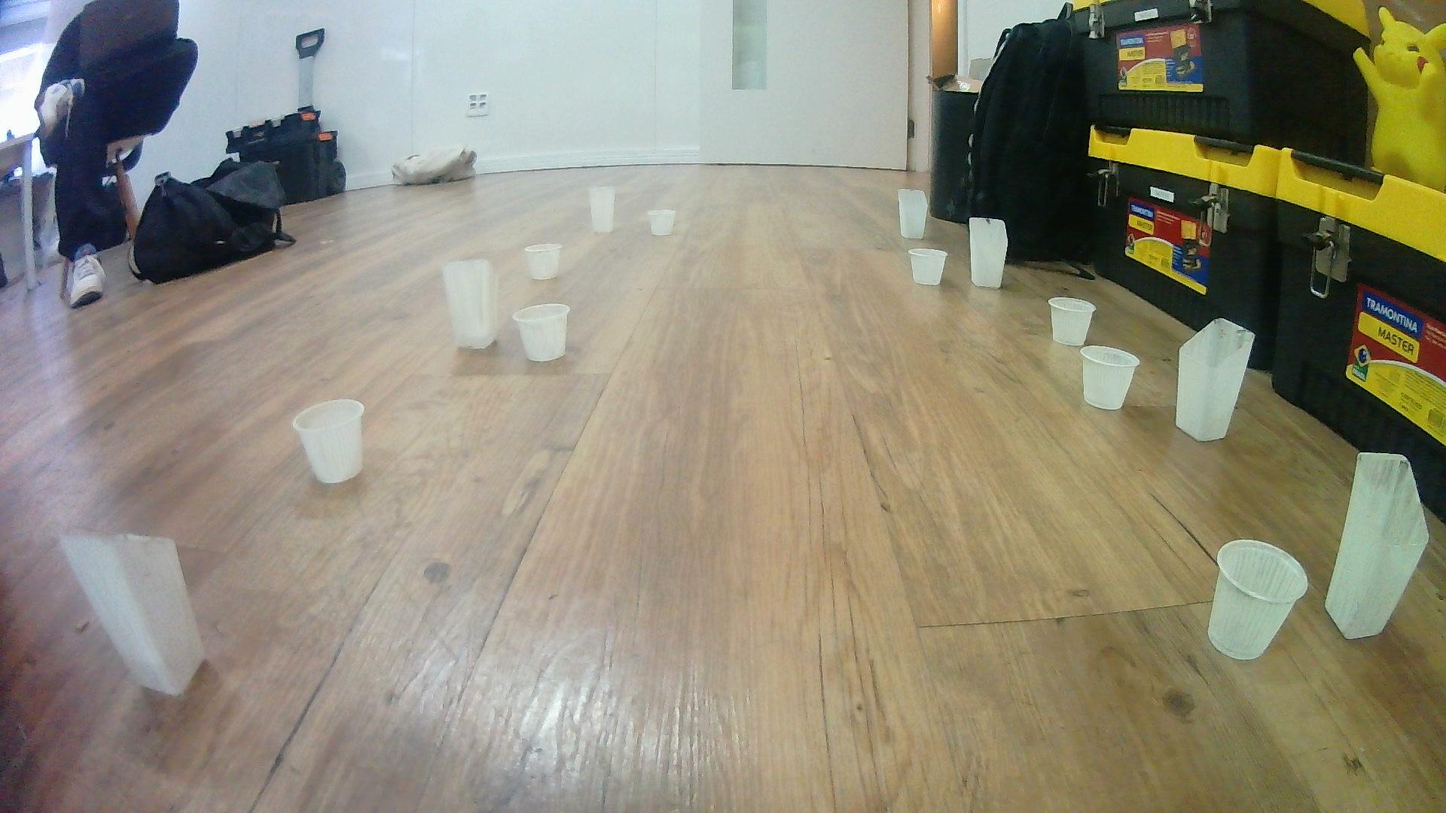erva_daninha: (44, 528, 205, 699), (1324, 451, 1431, 640), (1175, 318, 1255, 442), (441, 256, 499, 351), (968, 218, 1008, 289), (897, 188, 929, 240), (587, 184, 618, 233)
planta: (1208, 539, 1310, 662), (289, 399, 368, 486), (1080, 345, 1141, 410), (511, 303, 572, 363), (1047, 296, 1097, 348), (907, 248, 950, 286), (525, 243, 563, 281), (648, 209, 676, 236)
